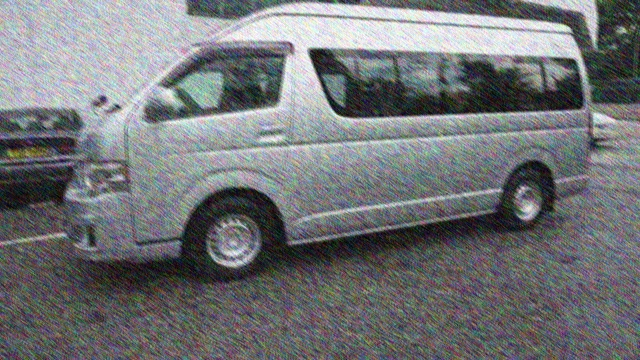van: (55, 9, 589, 275)
